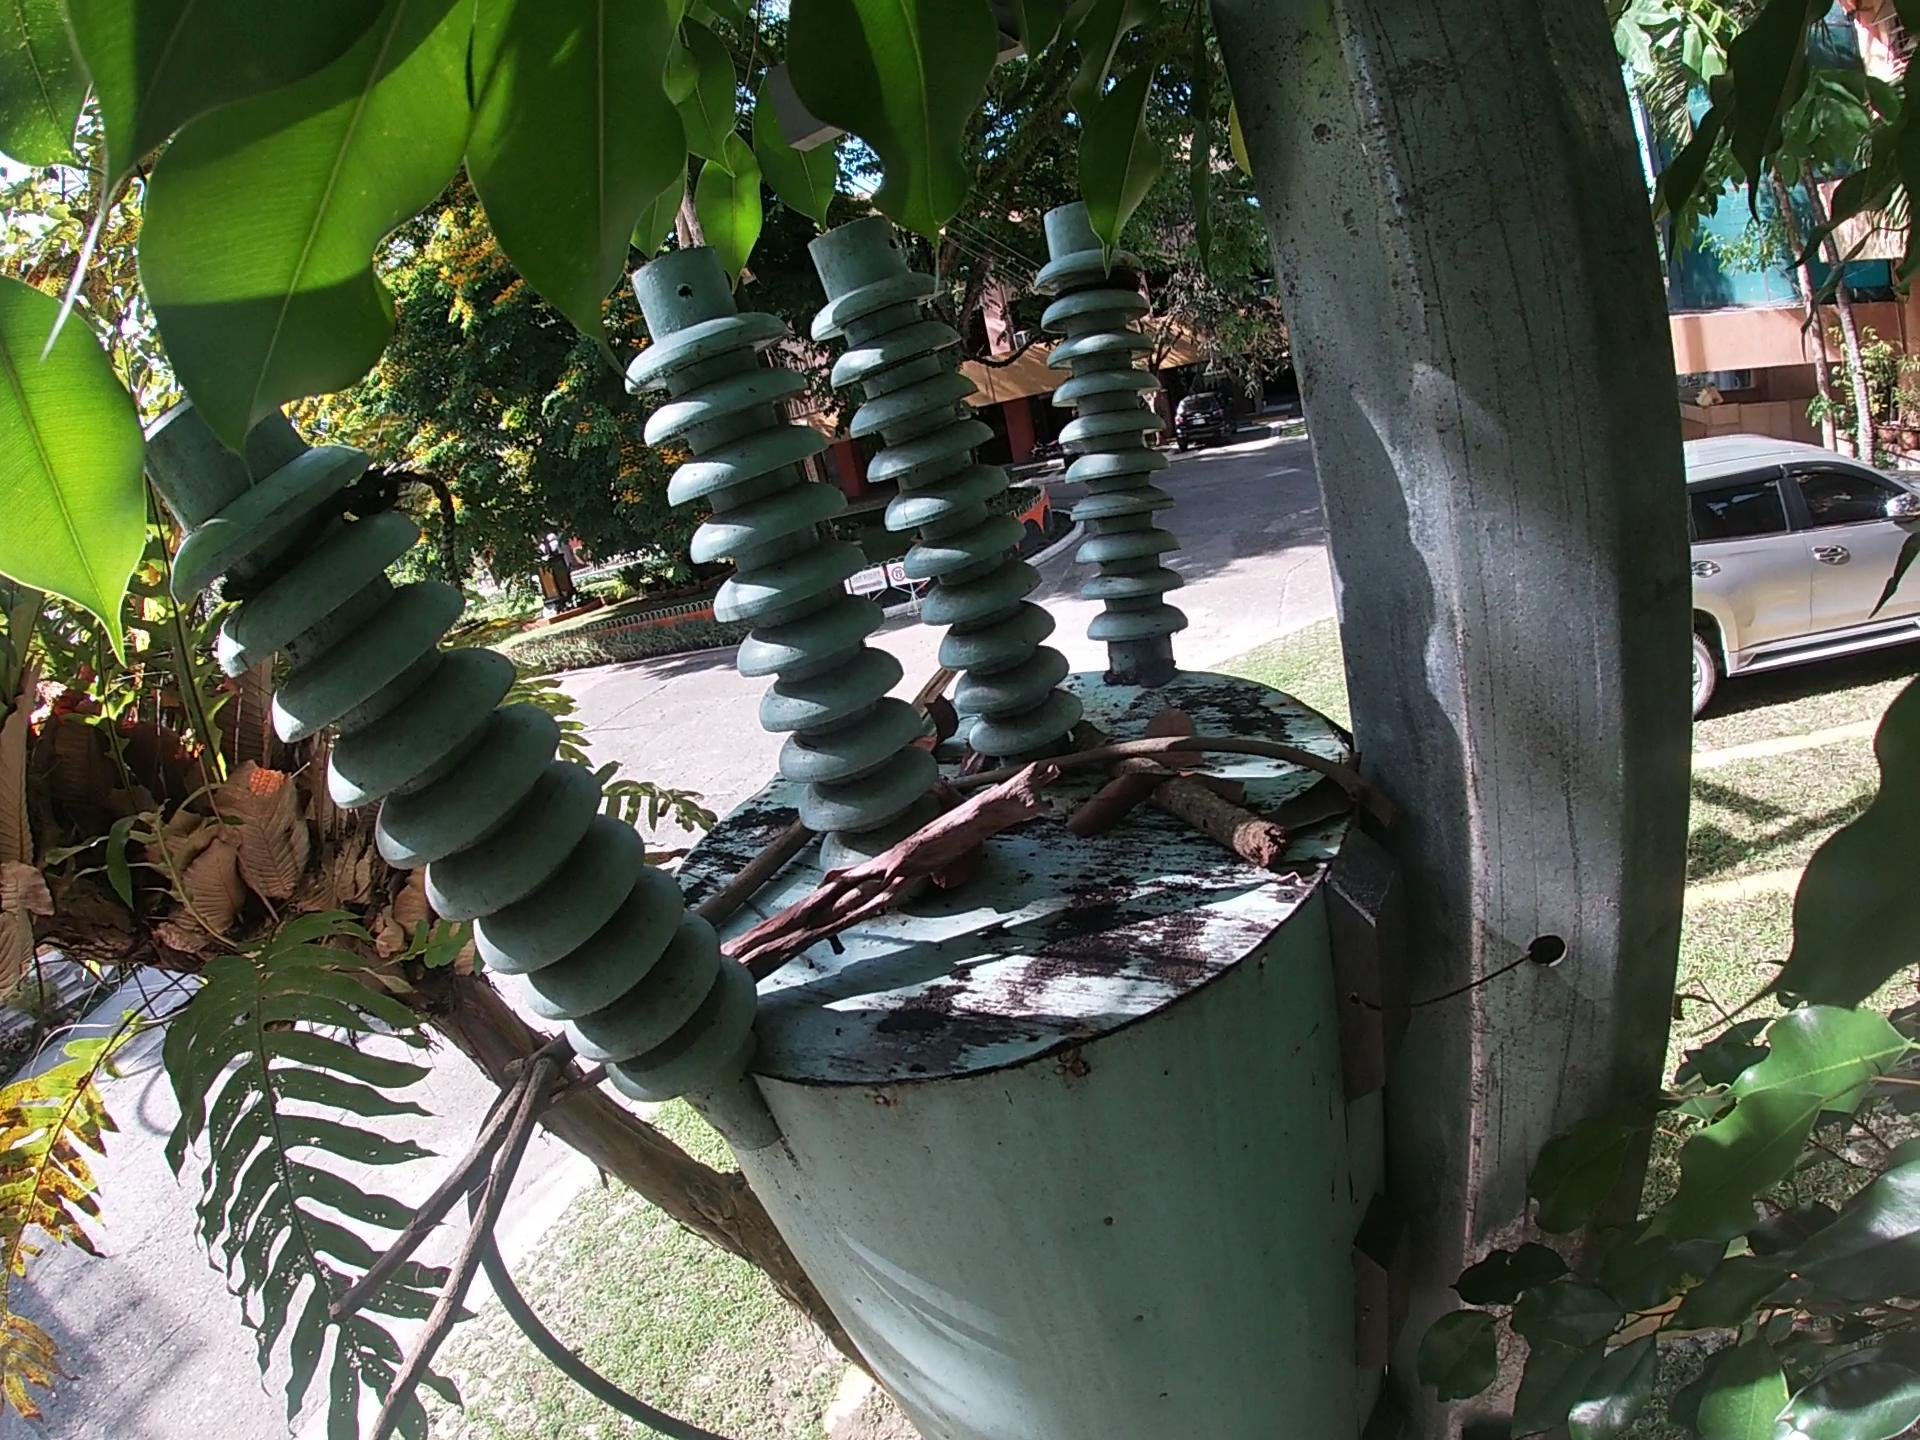leaf: (1072, 767, 1163, 833), (1147, 715, 1228, 767)
mahogany fruit: (919, 690, 965, 743)
tree branch: (308, 1030, 600, 1438), (729, 767, 1070, 970), (1079, 725, 1293, 867), (927, 755, 1370, 800), (697, 818, 810, 920), (915, 661, 963, 762)
